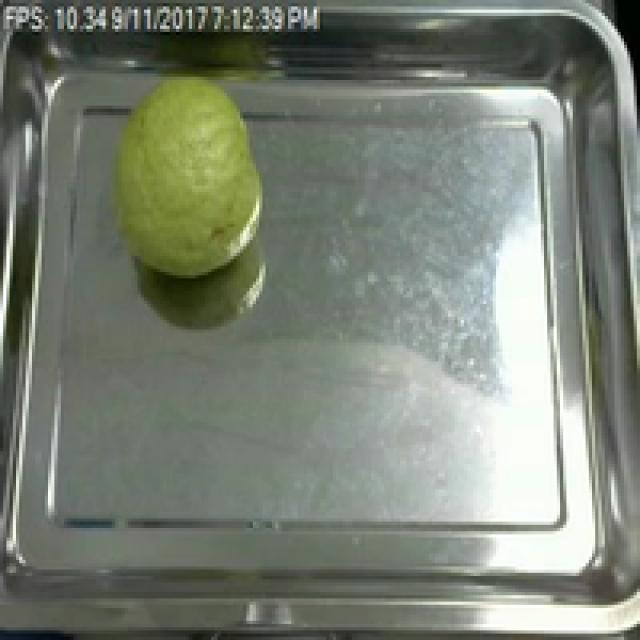Fruit: (90, 67, 275, 288)
